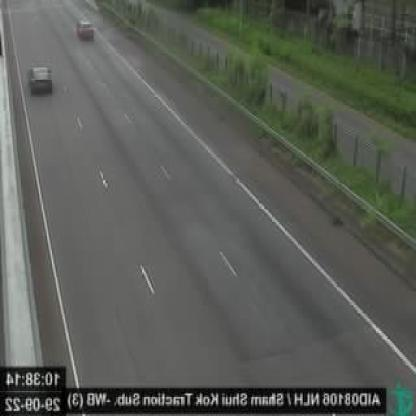Car: (26, 61, 56, 94), (74, 17, 100, 45)
